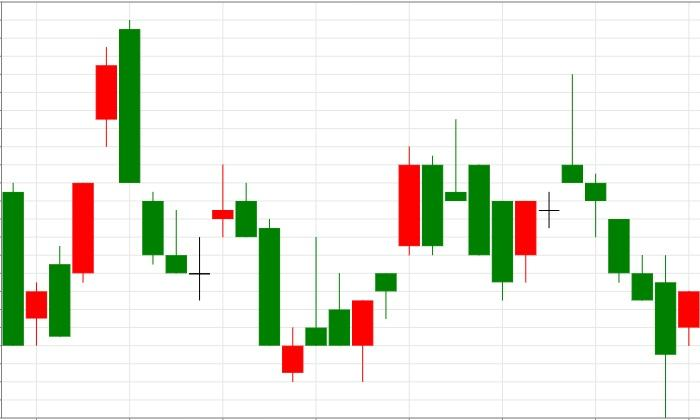bearish_engulfing_fall: (49, 20, 140, 337)
three_black_crows_fall: (49, 21, 186, 337)
